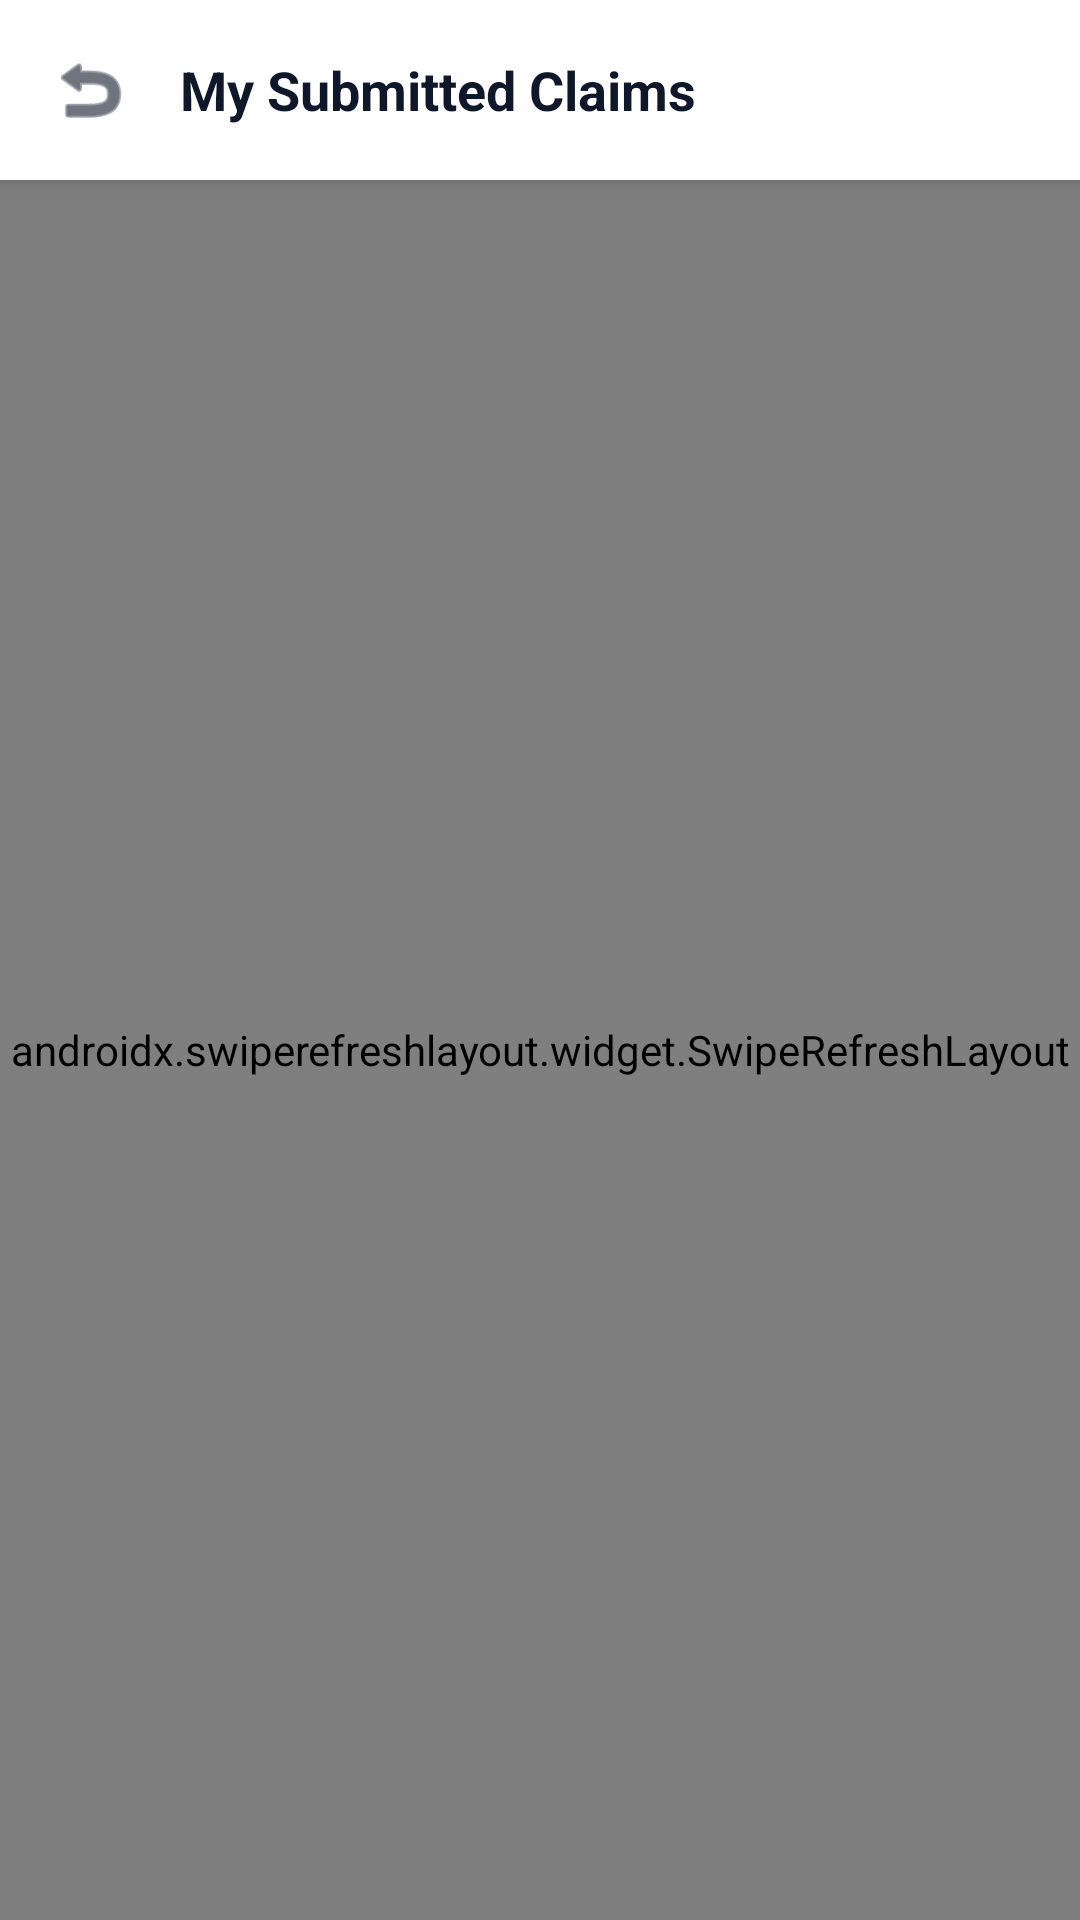

Named icons in this screenshot (1080px×1920px) and their centers, [x,y]:
revert: [91,90]
